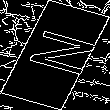N_E: (13, 27, 97, 83)
